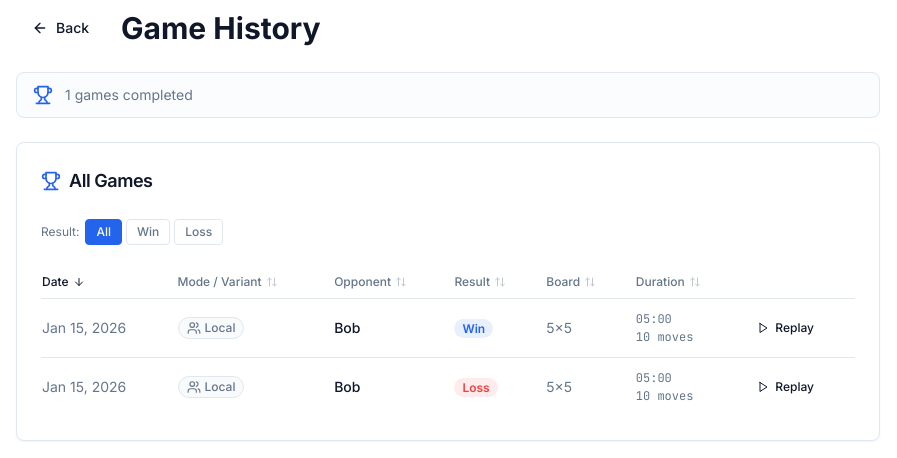
Test: GameHistoryPage — result filter › restores all games when All filter is selected after filtering
The width and height of the screenshot is (897, 458).
Click the button "Win".
click(148, 232)  # box top-left (126, 219), bottom-right (170, 245)
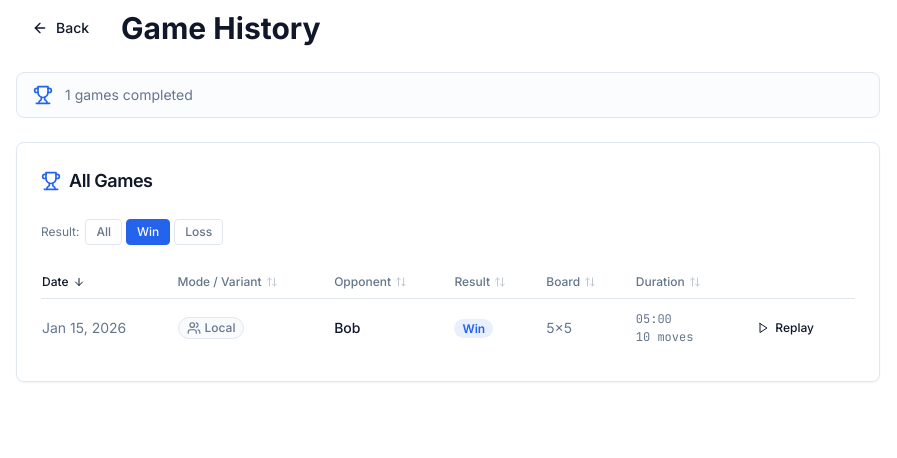
Click the button "All".
click(104, 232)  # box top-left (86, 219), bottom-right (122, 245)
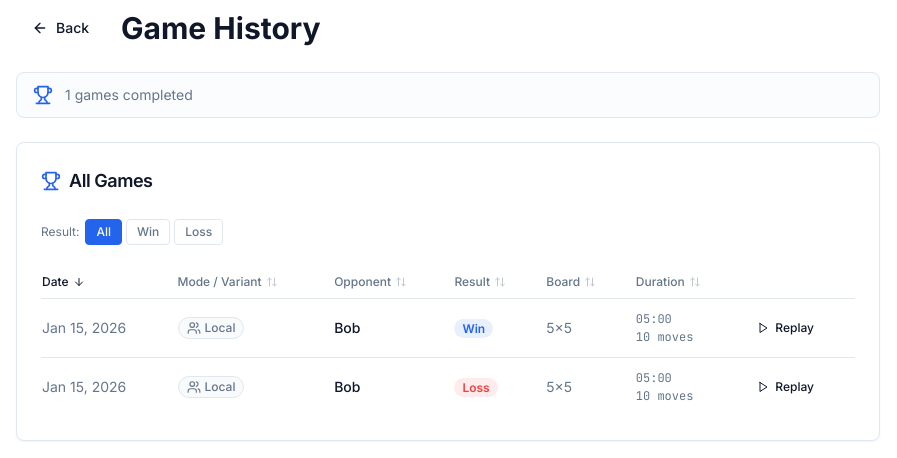
Result: the number of buttons "Replay" is 2 at top-left (745, 314), bottom-right (826, 342); top-left (745, 373), bottom-right (826, 401)
